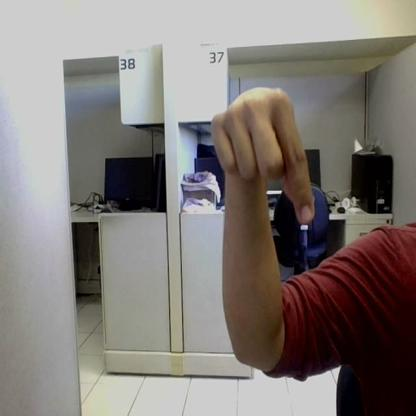Q: (212, 88, 314, 222)
